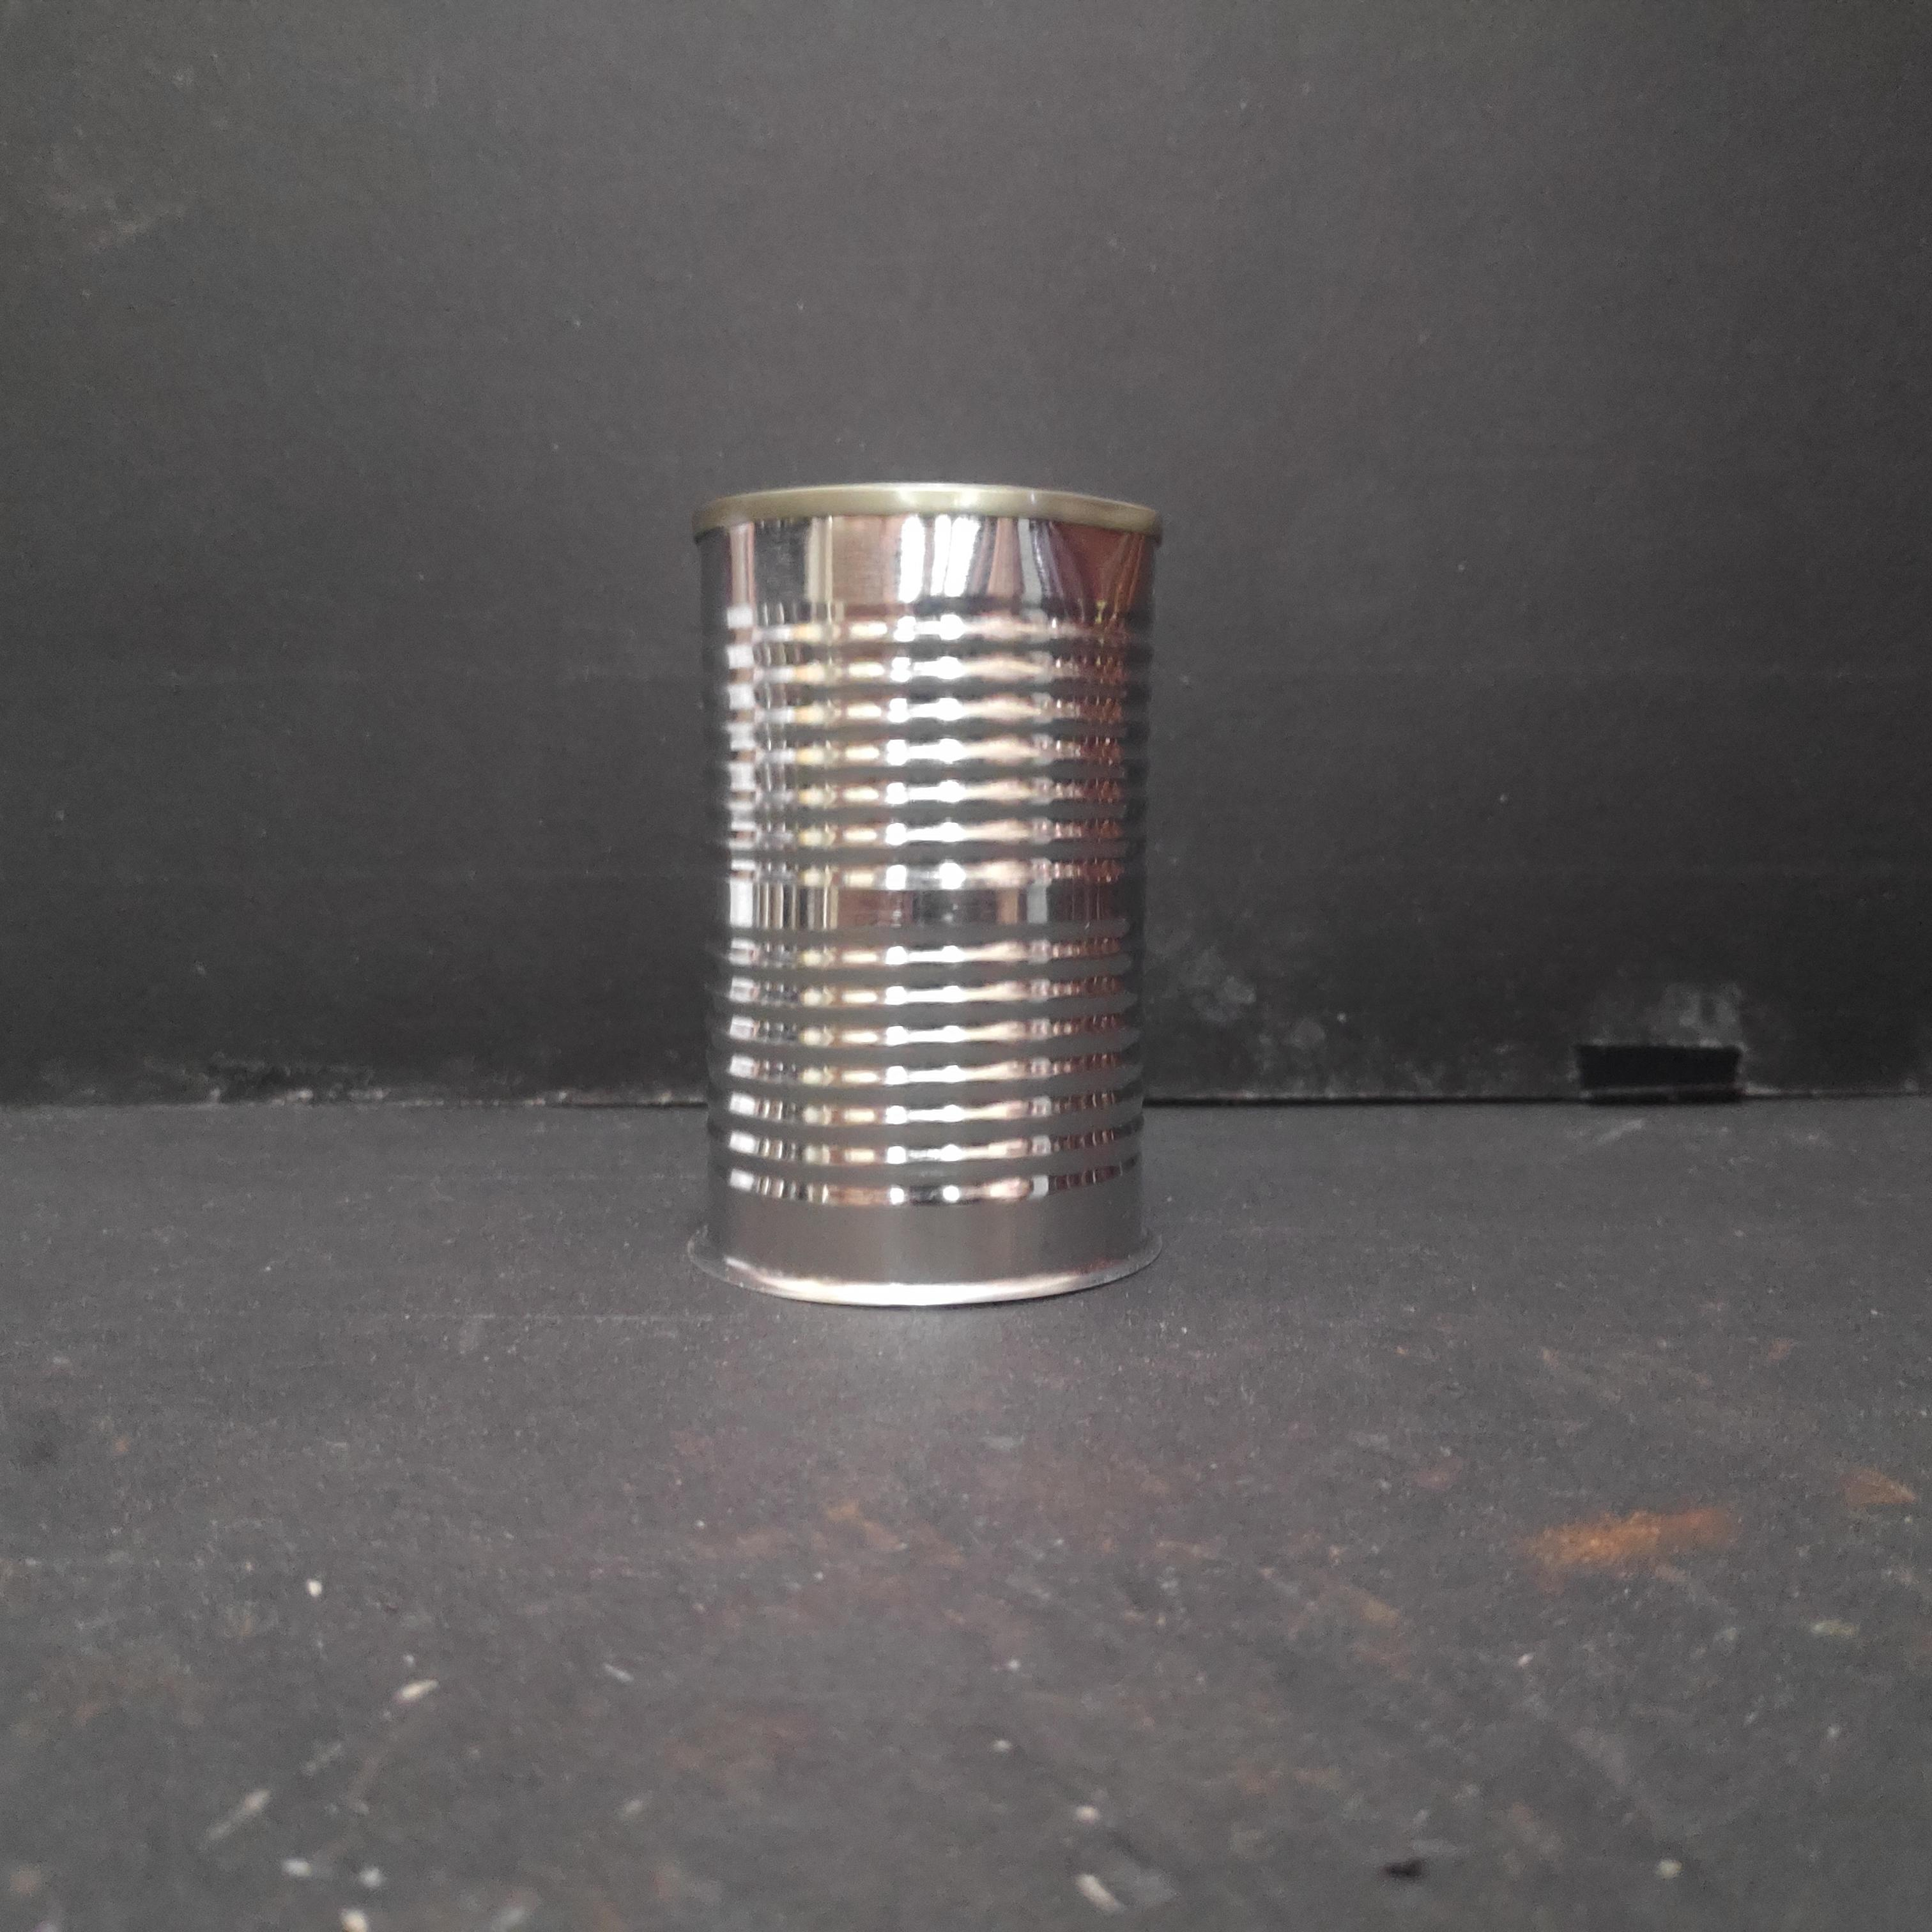Minor Defect: (685, 480, 1166, 1317)
